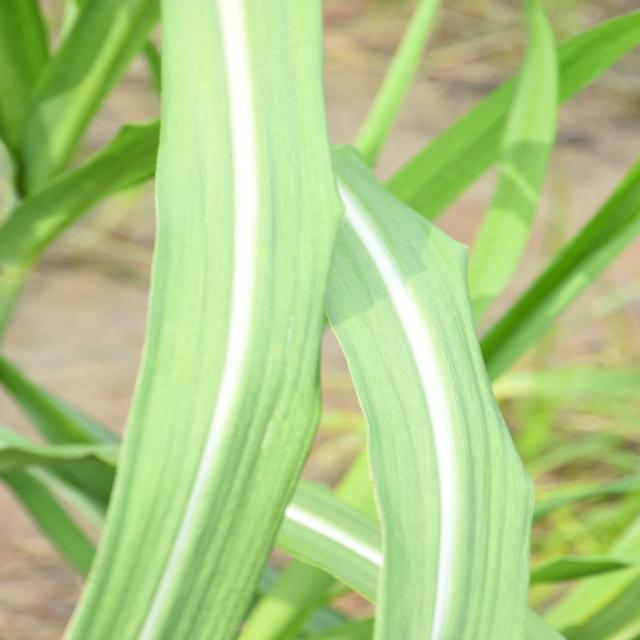Sugarcane: (61, 0, 338, 640)
